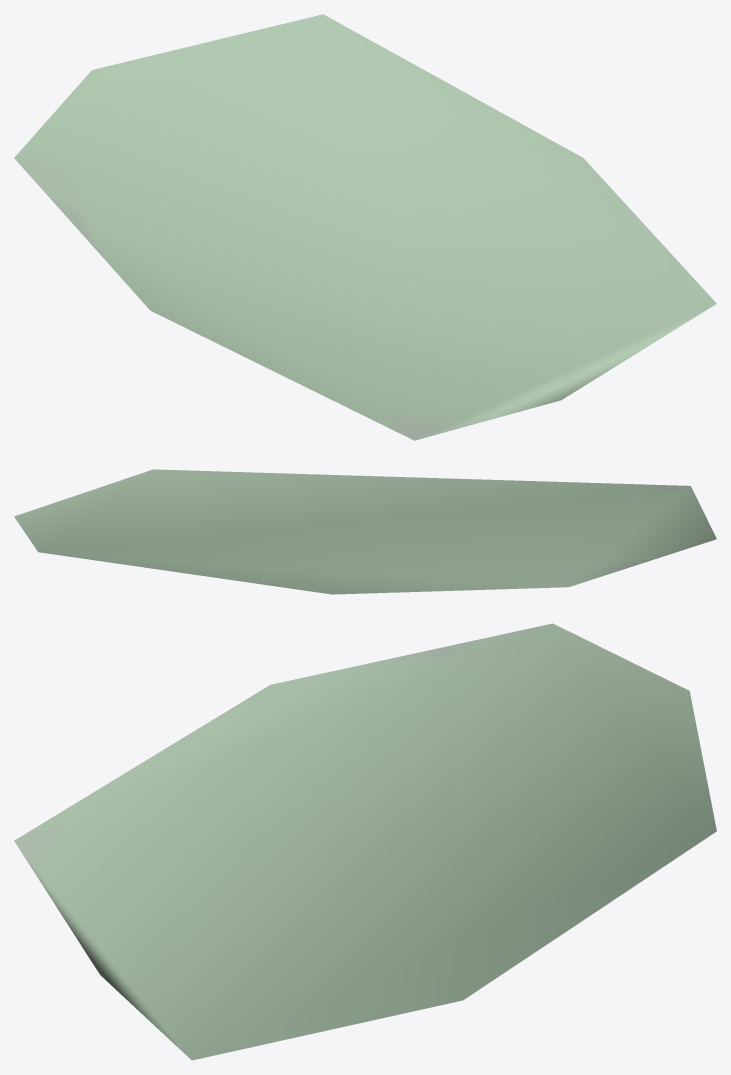
Rendered from TROLLHOLE02_HOLECAP208.fbx.
The picture shows the model from 3 angles, top to bottom: view 1: azimuth 30°, elevation 25°; view 2: azimuth 150°, elevation 25°; view 3: azimuth 270°, elevation 25°; orthographic projection. The views are drawn at different scales.
Parts seen in each view (by area): view 1: TROLLHOLE02_HOLECAP208; view 2: TROLLHOLE02_HOLECAP208; view 3: TROLLHOLE02_HOLECAP208.
Part boxes in pixels (x1=…): TROLLHOLE02_HOLECAP208: x1=14, y1=14, x2=716, y2=440; TROLLHOLE02_HOLECAP208: x1=14, y1=469, x2=716, y2=594; TROLLHOLE02_HOLECAP208: x1=14, y1=623, x2=716, y2=1060.
Size of the model in its own units: 8472 by 2639 by 9109.
Materials: 1 (1 with a texture image).
